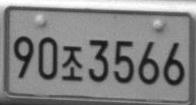0: (37, 36, 58, 79)
3: (88, 39, 109, 82)
5: (112, 40, 134, 83)
6: (162, 42, 185, 86), (137, 40, 159, 84)
9: (12, 35, 34, 77)
조: (61, 45, 82, 82)
